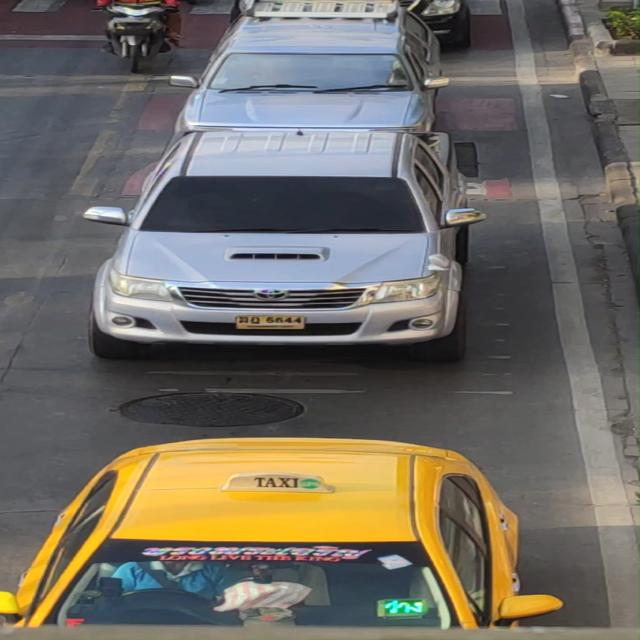car: (0, 434, 575, 632), (80, 118, 508, 360), (183, 16, 449, 136)
